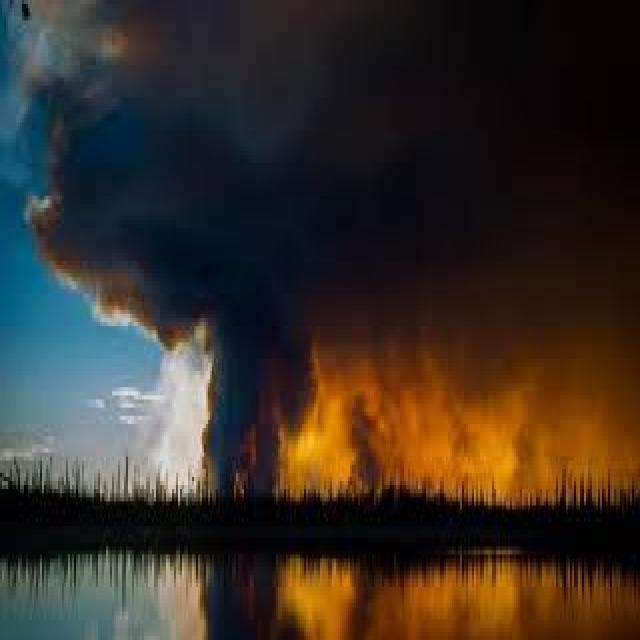Fire: (274, 408, 637, 514)
Smoke: (196, 14, 640, 479), (18, 1, 200, 348)
